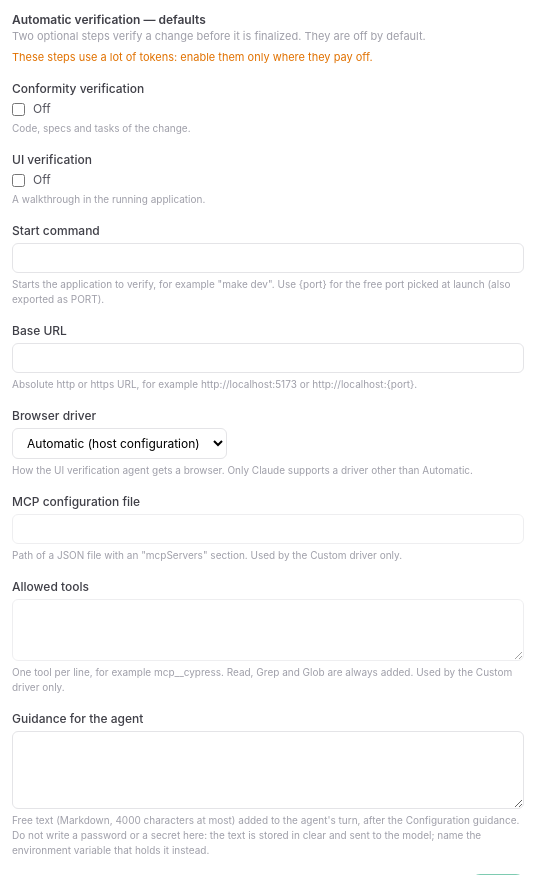
Test: VerificationSettingsForm — driver settings › disables the custom fields unless the resolved driver is custom
Expected: the text box labelled "Allowed tools" is disabled, [12, 599, 524, 661]
Select "Playwright (headless browser)" in the dropdown labelled "Browser driver": [120, 444] box [12, 428, 227, 459]
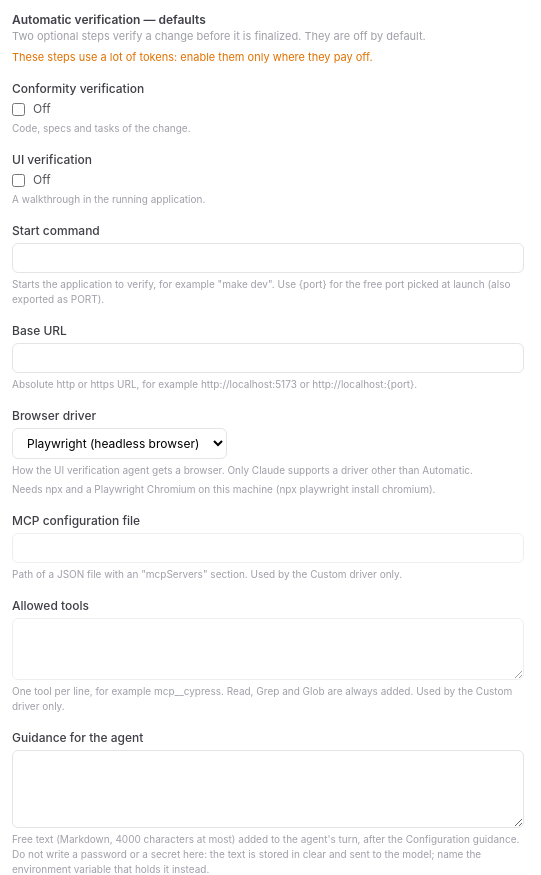
Select "Custom (MCP file)" in the dropdown labelled "Browser driver": [120, 444] box [12, 428, 227, 459]
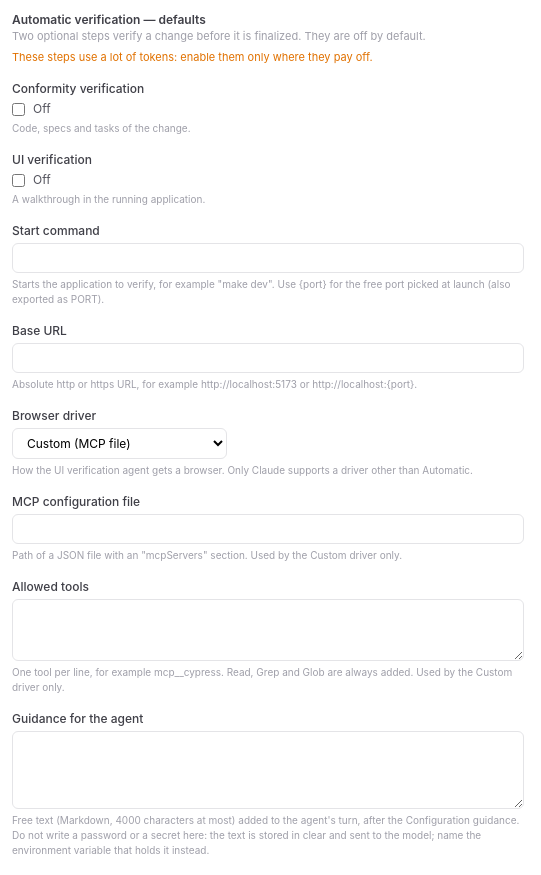
Result: the field labelled "MCP configuration file" is enabled at [12, 514, 524, 544]
Result: the text box labelled "Allowed tools" is enabled at [12, 599, 524, 661]
